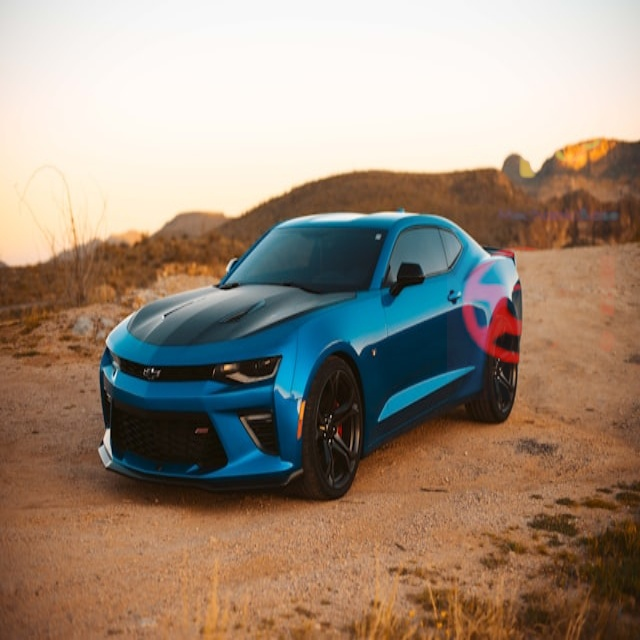symbol: (413, 18, 627, 232), (447, 212, 635, 400)
